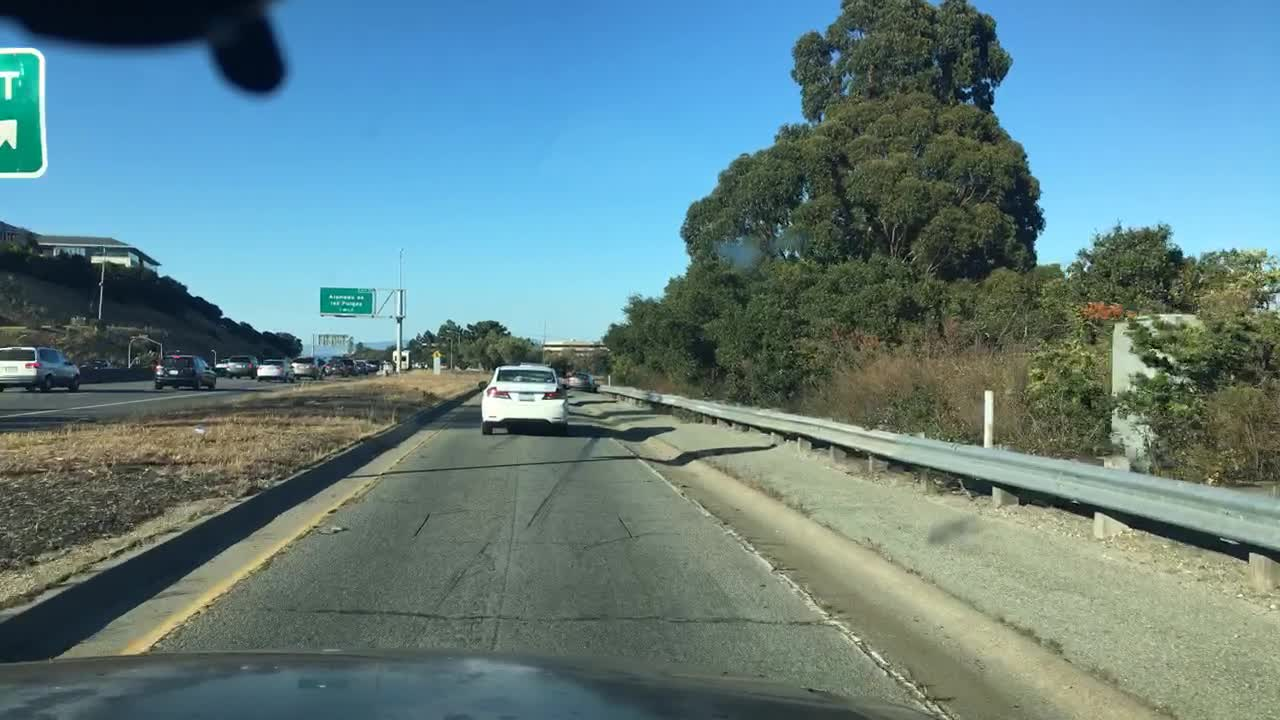bus: (392, 350, 411, 372)
car: (477, 362, 570, 436), (0, 344, 85, 392), (156, 353, 217, 389), (254, 359, 291, 381), (223, 355, 257, 378), (291, 355, 320, 379), (321, 358, 348, 378), (564, 369, 590, 389), (341, 356, 357, 373), (209, 359, 226, 372), (364, 359, 380, 372), (354, 359, 366, 373)
traffic sign: (1, 46, 48, 178), (318, 286, 374, 316)
